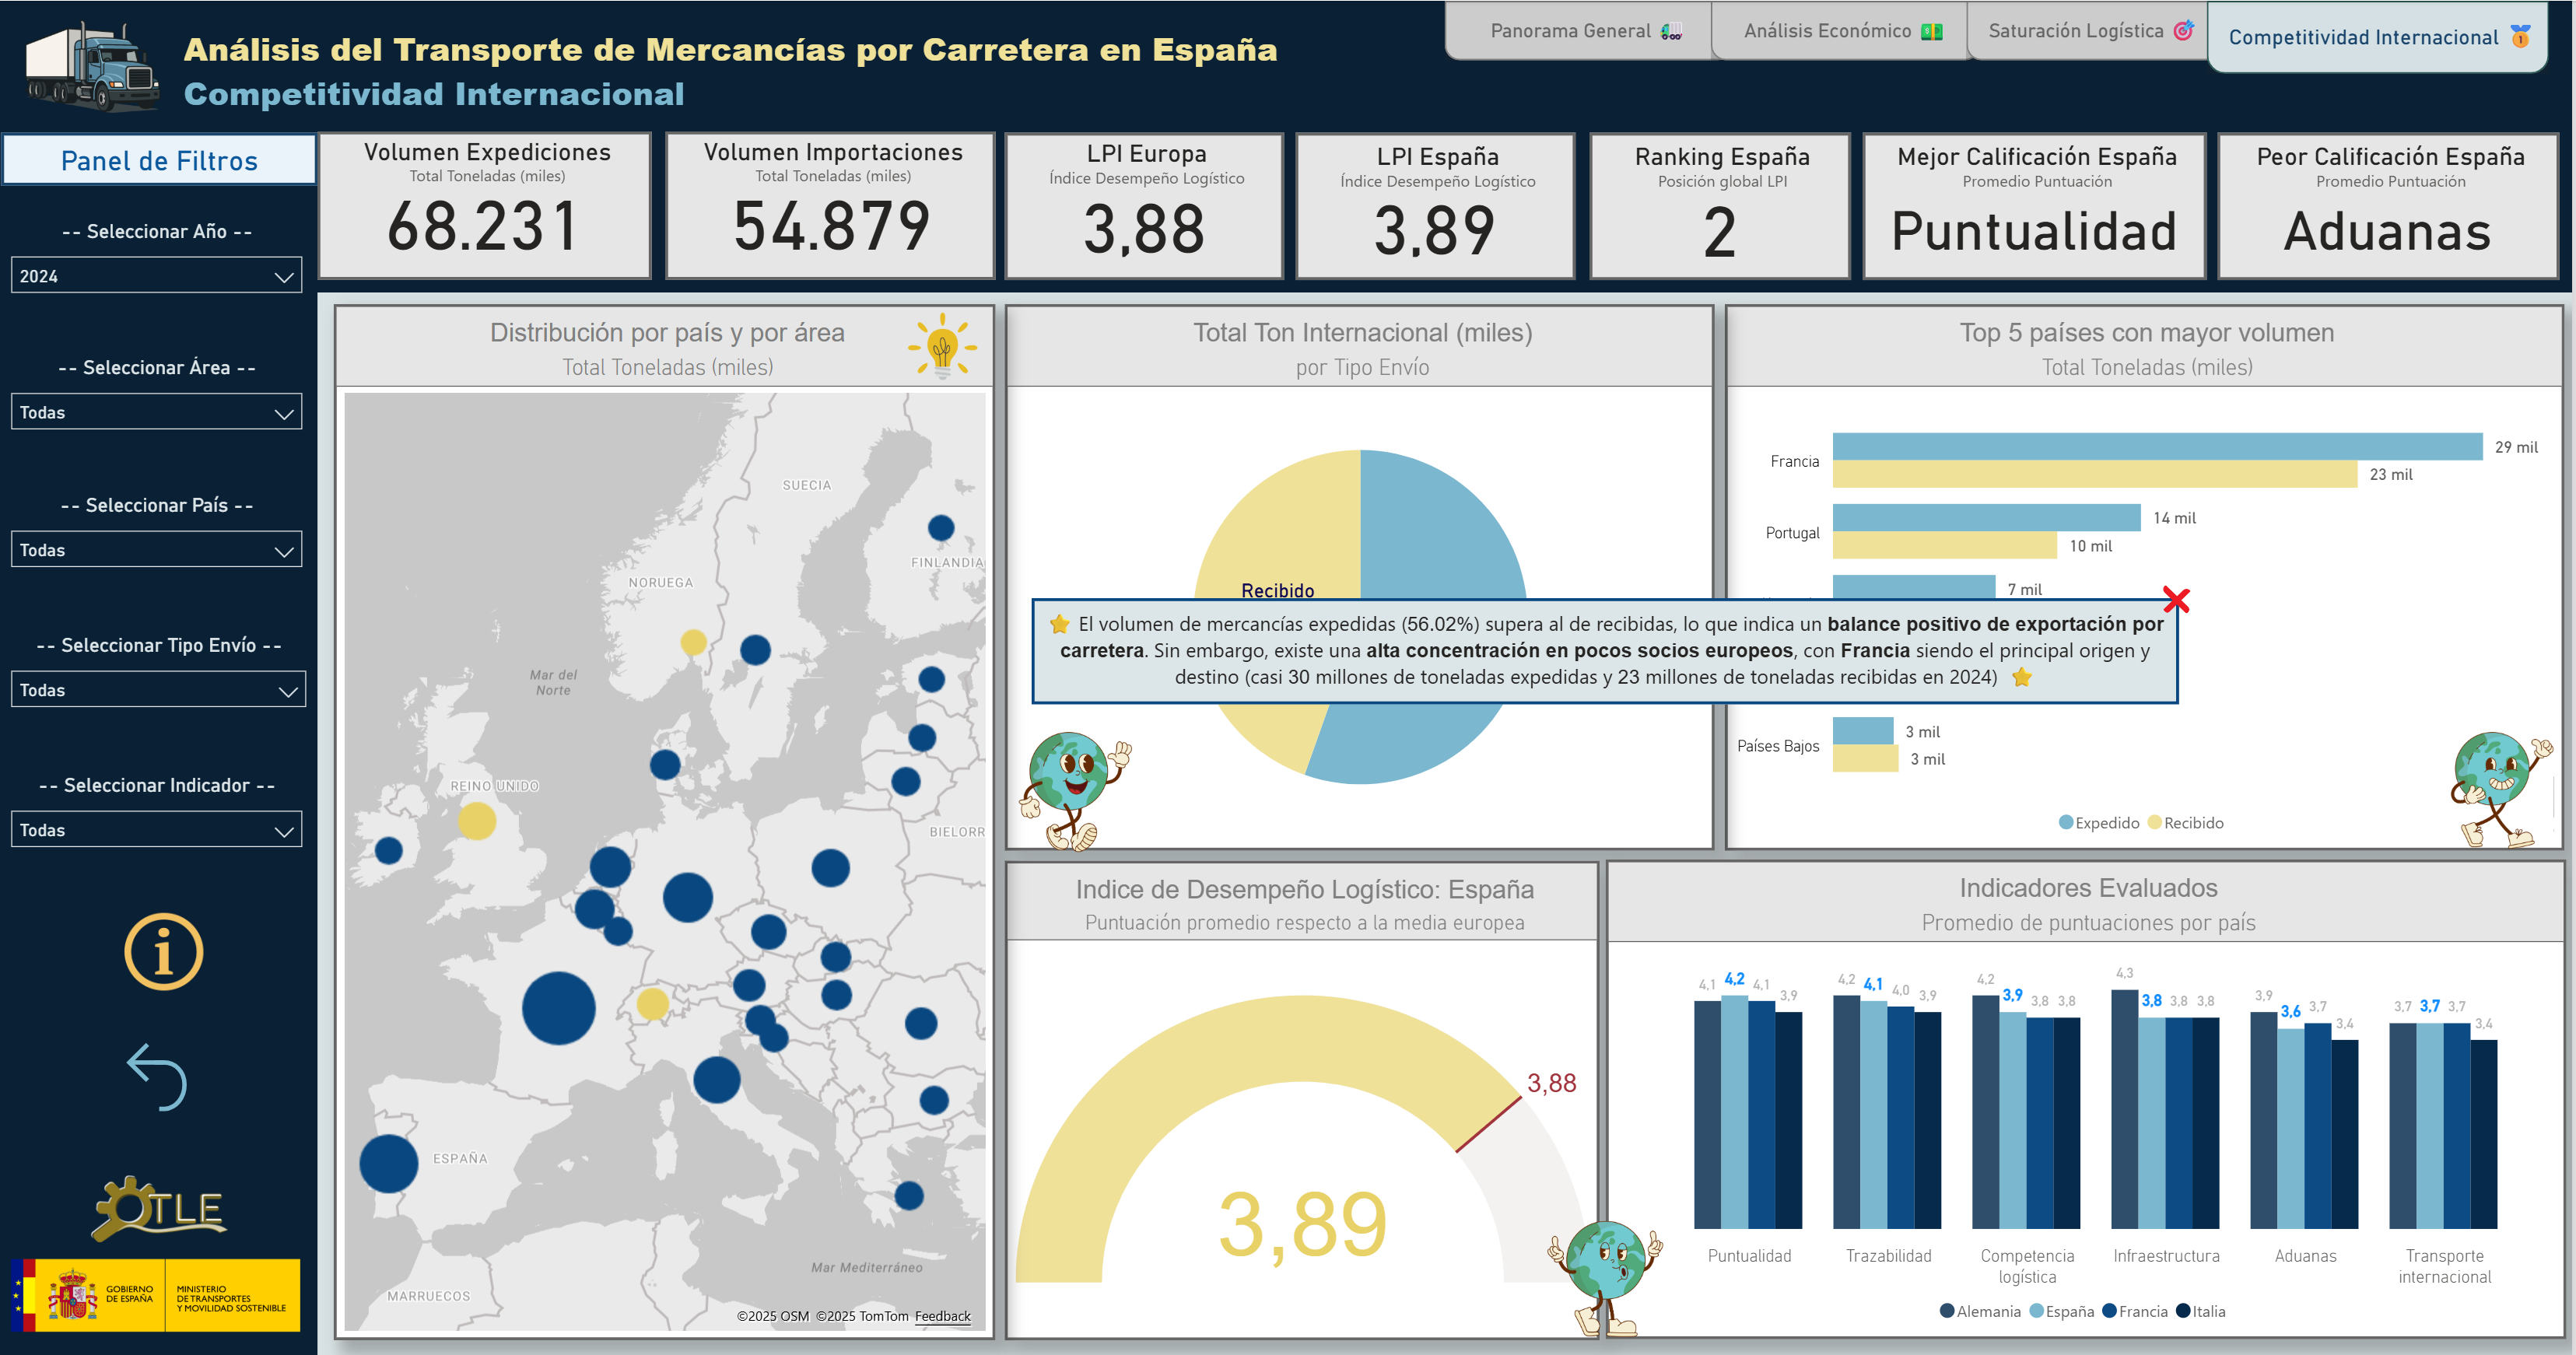

What the dashboard file says about the page in this screenshot:
{"tool":"powerbi","page":{"name":"Competitividad Internacional","canvas":[1747,920],"ordinal":4},"visuals":[{"type":"group","id":"g1","title":"Panel diseño","box":[0,0,1799.4,919.6],"z":0},{"type":"shape","box":[0,0,1799.4,197.8],"z":0,"group":"g1"},{"type":"shape","box":[0,81,218.5,838.5],"z":1000,"group":"g1"},{"type":"cardVisual","title":"Ranking España","fields":{"Data":["Avg(Indice Desempeño (LPI).Ranking)"]},"box":[1080.7,89.1,177,100],"z":1000},{"type":"textbox","box":[122.3,11.7,759,75.5],"z":2000,"group":"g1"},{"type":"image","title":"Info 4","box":[79.1,613.3,70.1,62.9],"z":2000},{"type":"slicer","title":"-- Seleccionar Año --","fields":{"Values":["Año Dim.Año"]},"box":[0.9,148.4,217.6,63.8],"z":3000},{"type":"slicer","title":"-- Seleccionar Área --","fields":{"Values":["Dim Paises.Área"]},"box":[0.9,241.4,217.6,63],"z":4000},{"type":"slicer","title":"-- Seleccionar País --","fields":{"Values":["Dim Paises.País"]},"box":[0.9,335.1,217.6,63.9],"z":5000},{"type":"image","title":"Ocultar Info Pag 2","box":[949.3,777.2,57.4,81.3],"z":6000},{"type":"slicer","title":"-- Seleccionar Indicador --","fields":{"Values":["Indice Desempeño (LPI).Indicador"]},"box":[0.9,524.3,217.6,63.8],"z":7000},{"type":"slicer","title":"-- Seleccionar Tipo Envío --","fields":{"Values":["Tipo Envio Dim.Tipo Envío"]},"box":[0.9,429.9,220.3,63.8],"z":8000},{"type":"textbox","box":[3.6,89,214.9,36],"z":9000},{"type":"clusteredBarChart","title":"Top 5 países con mayor volumen","fields":{"Category":["Dim Paises.País"],"Y":["Medidas Internacional.Total Ton Internacional (miles)"],"Series":["Dim Tipo Envio.Tipo Envío"]},"box":[1172.9,206,569.1,370.6],"z":10000},{"type":"cardVisual","title":"Mejor Calificación España","fields":{"Data":["Min(Indice Desempeño (LPI).Indicador)"]},"box":[1266.1,89.4,233.4,99.7],"z":11000},{"type":"cardVisual","title":"LPI Europa","fields":{"Data":["Medidas Internacional.LPI Promedio"]},"box":[684.8,89.4,189.1,100],"z":12000},{"type":"shape","box":[982.9,0,195,40.4],"z":13000},{"type":"shape","box":[1163.5,0,182.5,40.4],"z":14000},{"type":"shape","box":[1336.4,0,172.9,40.4],"z":15000},{"type":"shape","box":[1499.1,0,232,49.5],"z":16000},{"type":"image","box":[4,846.7,208.9,62.5],"z":17000},{"type":"image","box":[9.5,791.3,203.4,55.4],"z":18000},{"type":"actionButton","box":[80,699.6,59.4,61.2],"z":19000},{"type":"cardVisual","title":"LPI España","fields":{"Data":["Medidas Internacional.LPI Promedio España"]},"box":[881.5,89.1,189.9,100],"z":20000},{"type":"pieChart","fields":{"Category":["Dim Tipo Envio.Tipo Envío"],"Y":["Medidas Internacional.Total Ton Internacional (miles)"]},"box":[684.8,206,481.6,370.6],"z":22000},{"type":"cardVisual","title":"Peor Calificación España","fields":{"Data":["Min(Indice Desempeño (LPI).Indicador)"]},"box":[1506.6,89.4,231.8,99.7],"z":23000},{"type":"cardVisual","title":"Volumen Expediciones","fields":{"Data":["Medidas Internacional.Total Ton Internacional (miles)"]},"box":[218.7,88.8,226.9,100.6],"z":24000},{"type":"gauge","title":"Indice de Desempeño Logístico: España","fields":{"TargetValue":["Medidas Internacional.LPI Promedio"],"Y":["Medidas Internacional.LPI Promedio España"],"MaxValue":["Medidas Internacional.MAximo"],"MinValue":["Medidas Internacional.Minimo"]},"box":[684.8,583.2,403.5,325.4],"z":25000},{"type":"clusteredColumnChart","title":"Indicadores Evaluados","fields":{"Category":["Indice Desempeño (LPI).Indicador"],"Y":["Medidas Internacional.LPI Promedio"],"Series":["Dim Paises.País"]},"box":[1092,582.4,651.2,325.2],"z":26000},{"type":"azureMap","title":"Distribución por país y por área","fields":{"Series":["Dim Paises.Área"],"Category":["Dim Paises.País","Dim Paises.Área"],"Size":["Medidas Internacional.Total Ton Internacional (miles)"]},"box":[229.1,205.6,448.9,702.5],"z":27000},{"type":"cardVisual","title":"Volumen Importaciones","fields":{"Data":["Medidas Internacional.Total Ton Internacional (miles)"]},"box":[453.8,88.8,224.2,100.6],"z":28000},{"type":"image","box":[684.6,490.8,95.7,91.6],"z":29000},{"type":"image","box":[1653,490.8,94,89.9],"z":30000},{"type":"image","box":[1044.1,819.2,96.2,92.6],"z":31000},{"type":"image","box":[9.9,0,111.5,80.9],"z":32000},{"type":"image","box":[613,205.7,58.4,57.6],"z":33000}]}

Visuals, with their boxes in screenshot pixels (x1, y1, x2, y2), scaled from the page's 1747x920 canvas onto the 2576x1355 screenshot:
"Panel diseño" group: box=[0, 0, 2575, 1354]
shape: box=[0, 0, 2575, 292]
shape: box=[0, 119, 322, 1354]
"Ranking España" cardVisual: box=[1593, 131, 1855, 278]
textbox: box=[180, 17, 1299, 128]
"Info 4" image: box=[117, 903, 220, 996]
"-- Seleccionar Año --" slicer: box=[2, 219, 322, 313]
"-- Seleccionar Área --" slicer: box=[2, 355, 322, 448]
"-- Seleccionar País --" slicer: box=[2, 494, 322, 587]
"Ocultar Info Pag 2" image: box=[1400, 1145, 1484, 1265]
"-- Seleccionar Indicador --" slicer: box=[2, 772, 322, 867]
"-- Seleccionar Tipo Envío --" slicer: box=[2, 633, 326, 727]
textbox: box=[5, 131, 322, 184]
"Top 5 países con mayor volumen" clusteredBarChart: box=[1730, 303, 2569, 849]
"Mejor Calificación España" cardVisual: box=[1867, 131, 2211, 278]
"LPI Europa" cardVisual: box=[1010, 131, 1288, 279]
shape: box=[1449, 0, 1737, 59]
shape: box=[1716, 0, 1985, 59]
shape: box=[1971, 0, 2225, 59]
shape: box=[2210, 0, 2553, 73]
image: box=[6, 1247, 314, 1339]
image: box=[14, 1165, 314, 1247]
actionButton: box=[118, 1031, 205, 1121]
"LPI España" cardVisual: box=[1300, 131, 1580, 278]
pieChart - Dim Tipo Envio.Tipo Envío x Medidas Internacional.Total Ton Internacional (miles): box=[1010, 303, 1720, 849]
"Peor Calificación España" cardVisual: box=[2221, 131, 2564, 278]
"Volumen Expediciones" cardVisual: box=[322, 131, 657, 279]
"Indice de Desempeño Logístico: España" gauge: box=[1010, 859, 1605, 1338]
"Indicadores Evaluados" clusteredColumnChart: box=[1610, 858, 2571, 1337]
"Distribución por país y por área" azureMap: box=[338, 303, 1000, 1337]
"Volumen Importaciones" cardVisual: box=[669, 131, 1000, 279]
image: box=[1009, 723, 1151, 858]
image: box=[2438, 723, 2575, 856]
image: box=[1540, 1206, 1681, 1343]
image: box=[15, 0, 179, 119]
image: box=[904, 303, 990, 388]
